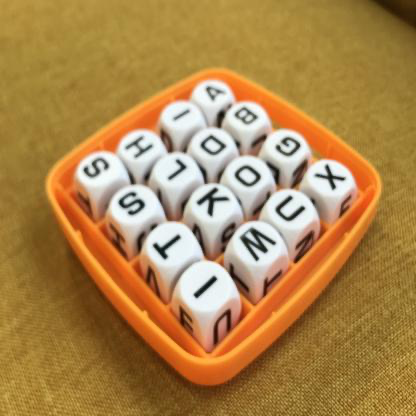a: (200, 76, 232, 106)
b: (232, 101, 269, 133)
d: (197, 132, 233, 160)
g: (275, 133, 307, 161)
h: (123, 123, 156, 162)
i: (189, 265, 229, 308), (168, 99, 199, 130)
k: (198, 183, 234, 224)
l: (161, 155, 198, 185)
o: (233, 161, 267, 193)
s: (118, 184, 155, 223), (80, 150, 114, 184)
t: (154, 224, 190, 265)
u: (276, 194, 316, 232)
w: (239, 223, 283, 269)
x: (314, 162, 350, 194)
